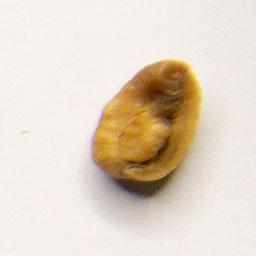defect: (87, 55, 206, 190)
